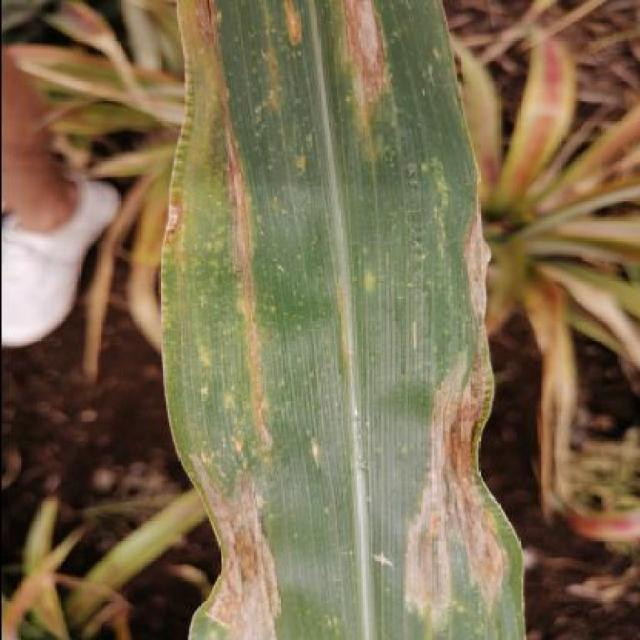Corn_Leaf_Blight: (160, 3, 532, 640)
